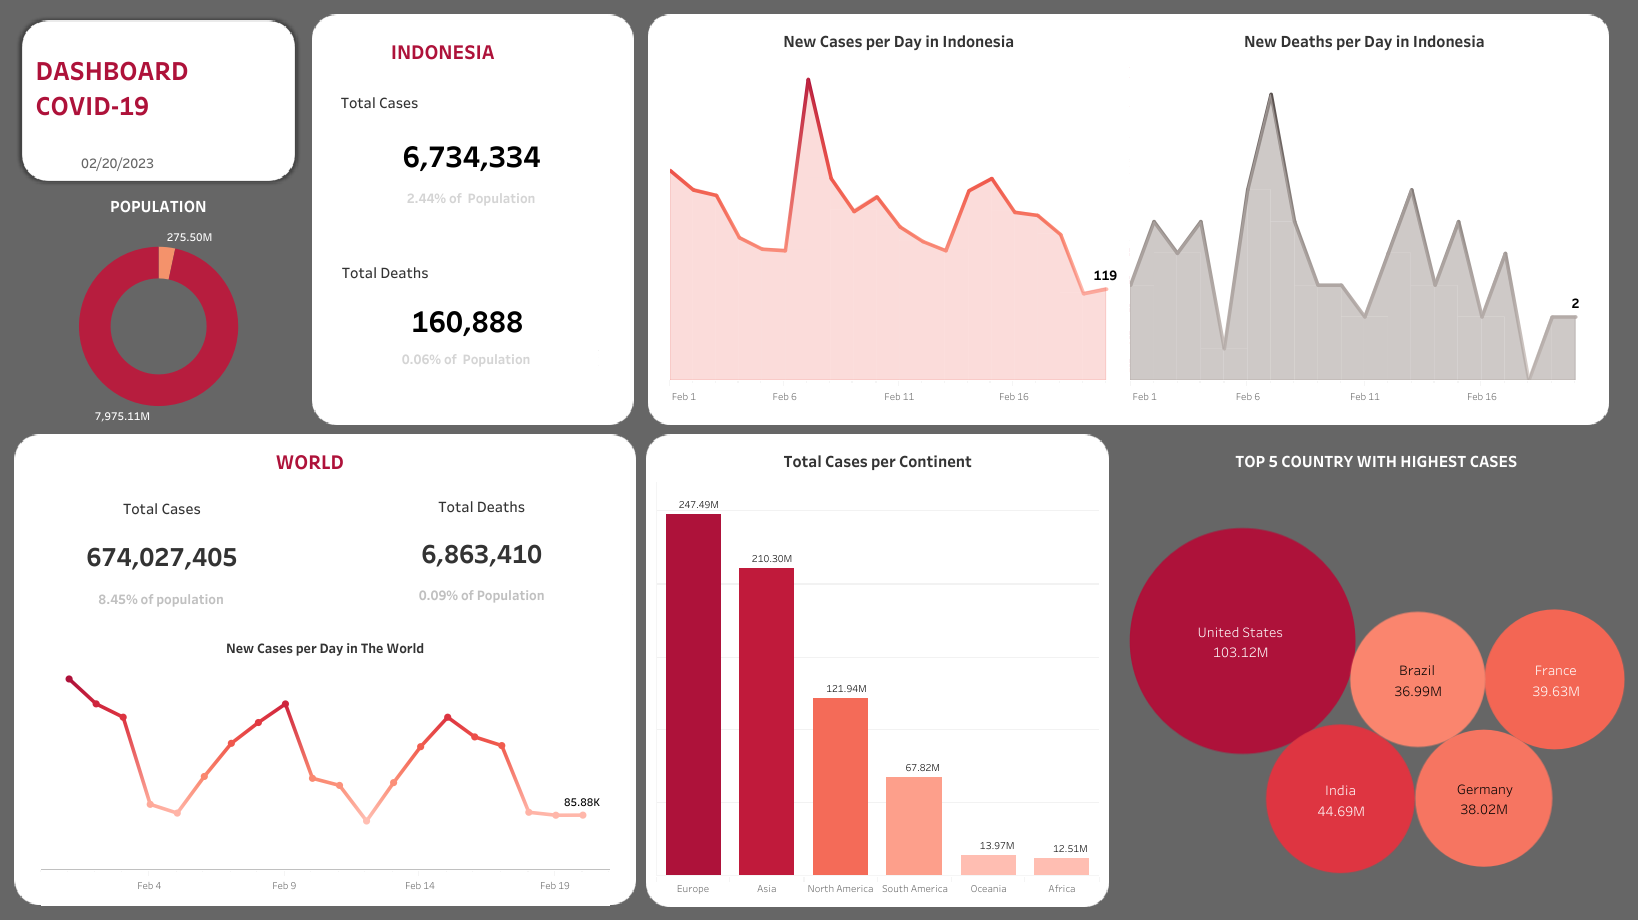

The dashboard page shown, as its layout file describes it:
{"tool":"tableau","page":{"name":"COVID DASHBOARD","canvas":[1366,768],"ordinal":0},"visuals":[{"type":"image","param":"Image/Picture1.png","box":[8,8,248,350]},{"type":"image","param":"Image/8.png","box":[256,8,280,350]},{"type":"image","param":"Image/9.png","box":[536,8,822,350]},{"type":"worksheet","title":"New Cases per Day in Indonesia","mark":"Automatic","rows":["new_cases","new_cases"],"cols":["date"],"box":[558,18,382,329]},{"type":"worksheet","title":"New Deaths per Day in Indonesia (2)","mark":"Automatic","rows":["new_deaths","new_deaths"],"cols":["date"],"box":[942,18,390,329]},{"type":"text","box":[27,24,209,98]},{"type":"text","box":[323,27,137,30]},{"type":"worksheet","title":"Total cases in Indonesia","mark":"Automatic","cols":["total_cases"],"box":[280,70,229,124]},{"type":"text","box":[65,120,121,30]},{"type":"worksheet","title":"Indo VS World Population","mark":"Pie","rows":["Calculation_839639923258036224","Calculation_839639923258036224"],"box":[19,156,226,198]},{"type":"worksheet","title":"Total deaths in Indonesia","mark":"Automatic","cols":["total_deaths"],"box":[281,212,222,120]},{"type":"image","param":"Image/11.png","box":[8,358,525.7,402]},{"type":"image","param":"Image/10.png","box":[533.7,358,402.3,402]},{"type":"text","box":[936,358,422,50]},{"type":"worksheet","title":"Total Cases per Continent","mark":"Automatic","rows":["Total_Cases"],"cols":["continent"],"box":[547,368,369,382]},{"type":"text","box":[227,369,97,30]},{"type":"worksheet","title":"Total Cases in The World","mark":"Automatic","cols":["total_cases"],"box":[30,403,216,117]},{"type":"worksheet","title":"Total Deaths in The World","mark":"Automatic","cols":["total_deaths"],"box":[285,406,241,119]},{"type":"worksheet","title":"Total Cases per Country","mark":"Circle","box":[936,408,422,352]},{"type":"worksheet","title":"New Cases per Day in The World","mark":"Automatic","rows":["new_cases"],"cols":["date"],"box":[34,526,474,229]}]}

Visuals, with their boxes in screenshot pixels (x1, y1, x2, y2), scaled from the page's 1366x768 canvas onto the 1638x920 screenshot:
image: detection(10, 10, 307, 429)
image: detection(307, 10, 643, 429)
image: detection(643, 10, 1628, 429)
"New Cases per Day in Indonesia" worksheet: detection(669, 22, 1127, 416)
"New Deaths per Day in Indonesia (2)" worksheet: detection(1130, 22, 1597, 416)
text: detection(32, 29, 283, 146)
text: detection(387, 32, 552, 68)
"Total cases in Indonesia" worksheet: detection(336, 84, 610, 232)
text: detection(78, 144, 223, 180)
"Indo VS World Population" worksheet (Pie marks): detection(23, 187, 294, 424)
"Total deaths in Indonesia" worksheet: detection(337, 254, 603, 398)
image: detection(10, 429, 640, 910)
image: detection(640, 429, 1122, 910)
text: detection(1122, 429, 1628, 489)
"Total Cases per Continent" worksheet: detection(656, 441, 1098, 898)
text: detection(272, 442, 389, 478)
"Total Cases in The World" worksheet: detection(36, 483, 295, 623)
"Total Deaths in The World" worksheet: detection(342, 486, 631, 629)
"Total Cases per Country" worksheet (Circle marks): detection(1122, 489, 1628, 910)
"New Cases per Day in The World" worksheet: detection(41, 630, 609, 904)
